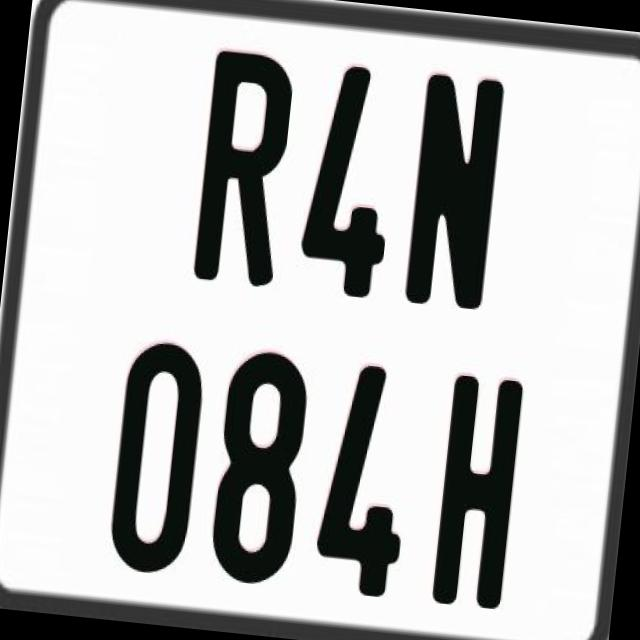0: (102, 336, 212, 581)
4: (295, 62, 406, 308), (308, 360, 420, 603)
8: (203, 347, 310, 593)
H: (428, 371, 528, 611)
N: (400, 68, 508, 310)
R: (190, 48, 296, 290)
